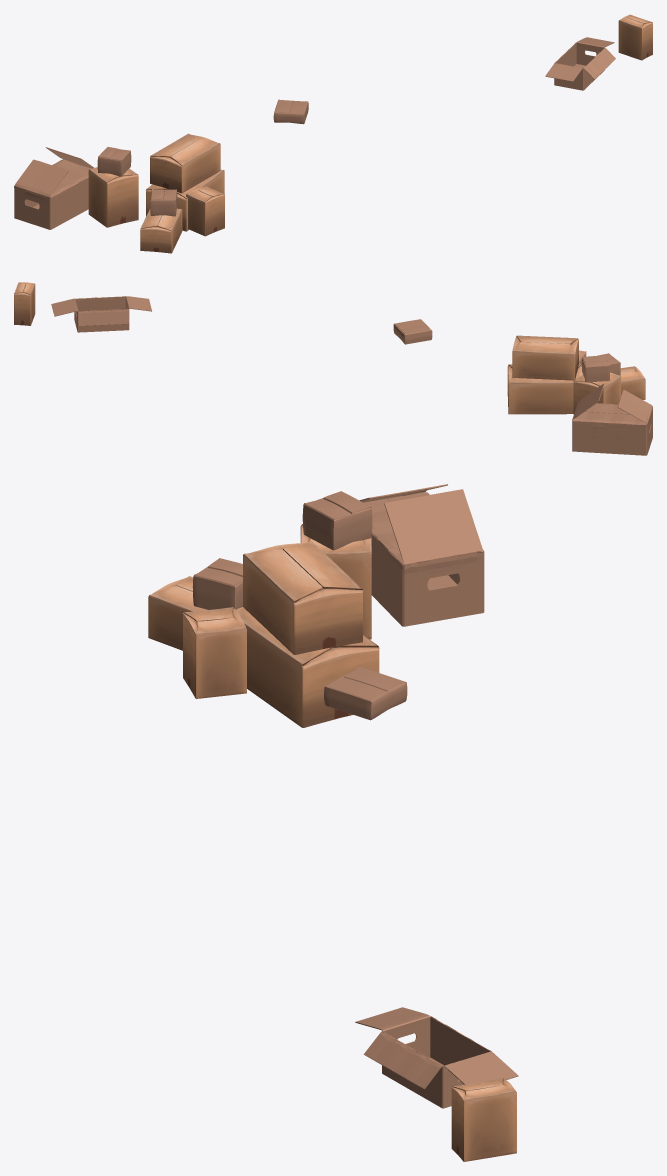
The model's file is MDL_Office_Boxes_01.fbx.
3 views of the same model, one above another, from view 1: azimuth 30°, elevation 25°; view 2: azimuth 150°, elevation 25°; view 3: azimuth 270°, elevation 25° (orthographic). The views are drawn at different scales.
Parts seen in each view (by area): view 1: MDL_Mainbox_halfopen.002, MDL_Box_04.004, MDL_Box_03.007, MDL_Mainbox_carrier.001, MDL_Box_03.006, MDL_Box_04.005, MDL_Box_03.003, MDL_Box_04.003, MDL_Box_01.005, MDL_Box_01.003, MDL_Box_01.004; view 2: MDL_Mainbox_halfopen.002, MDL_Box_04.004, MDL_Box_04.003, MDL_Mainbox_carrier.001, MDL_Box_03.007, MDL_Box_03.003, MDL_Box_01.003, MDL_Box_01.005, MDL_Box_04.005; view 3: MDL_Mainbox_halfopen.002, MDL_Box_04.004, MDL_Mainbox_carrier.001, MDL_Box_04.003, MDL_Box_03.006, MDL_Box_03.003, MDL_Box_01.005, MDL_Box_01.003, MDL_Box_04.005, MDL_Box_01.004, MDL_Box_03.007.
Part boxes in pixels (x1,y1,x2,y2): MDL_Mainbox_halfopen.002: [14, 147, 93, 229]; MDL_Box_04.004: [150, 133, 220, 193]; MDL_Box_03.007: [88, 167, 138, 227]; MDL_Mainbox_carrier.001: [545, 37, 615, 90]; MDL_Box_03.006: [186, 186, 224, 236]; MDL_Box_04.005: [140, 208, 182, 253]; MDL_Box_03.003: [618, 14, 652, 60]; MDL_Box_04.003: [145, 169, 224, 231]; MDL_Box_01.005: [97, 147, 131, 176]; MDL_Box_01.003: [273, 99, 308, 124]; MDL_Box_01.004: [150, 189, 177, 216]; MDL_Mainbox_halfopen.002: [572, 383, 652, 455]; MDL_Box_04.004: [512, 335, 578, 380]; MDL_Box_04.003: [507, 364, 582, 414]; MDL_Mainbox_carrier.001: [51, 296, 151, 332]; MDL_Box_03.007: [573, 372, 621, 414]; MDL_Box_03.003: [14, 282, 35, 325]; MDL_Box_01.003: [393, 319, 432, 344]; MDL_Box_01.005: [581, 355, 609, 382]; MDL_Box_04.005: [620, 366, 645, 399]; MDL_Mainbox_halfopen.002: [359, 484, 484, 626]; MDL_Box_04.004: [243, 541, 363, 654]; MDL_Mainbox_carrier.001: [355, 1007, 518, 1108]; MDL_Box_04.003: [235, 607, 379, 727]; MDL_Box_03.006: [183, 607, 246, 698]; MDL_Box_03.003: [451, 1078, 516, 1161]; MDL_Box_01.005: [302, 491, 372, 550]; MDL_Box_01.003: [324, 667, 407, 720]; MDL_Box_04.005: [148, 576, 207, 650]; MDL_Box_01.004: [192, 558, 242, 609]; MDL_Box_03.007: [300, 524, 371, 639].
Size of the model in its own units: 917 by 91.82 by 237.
